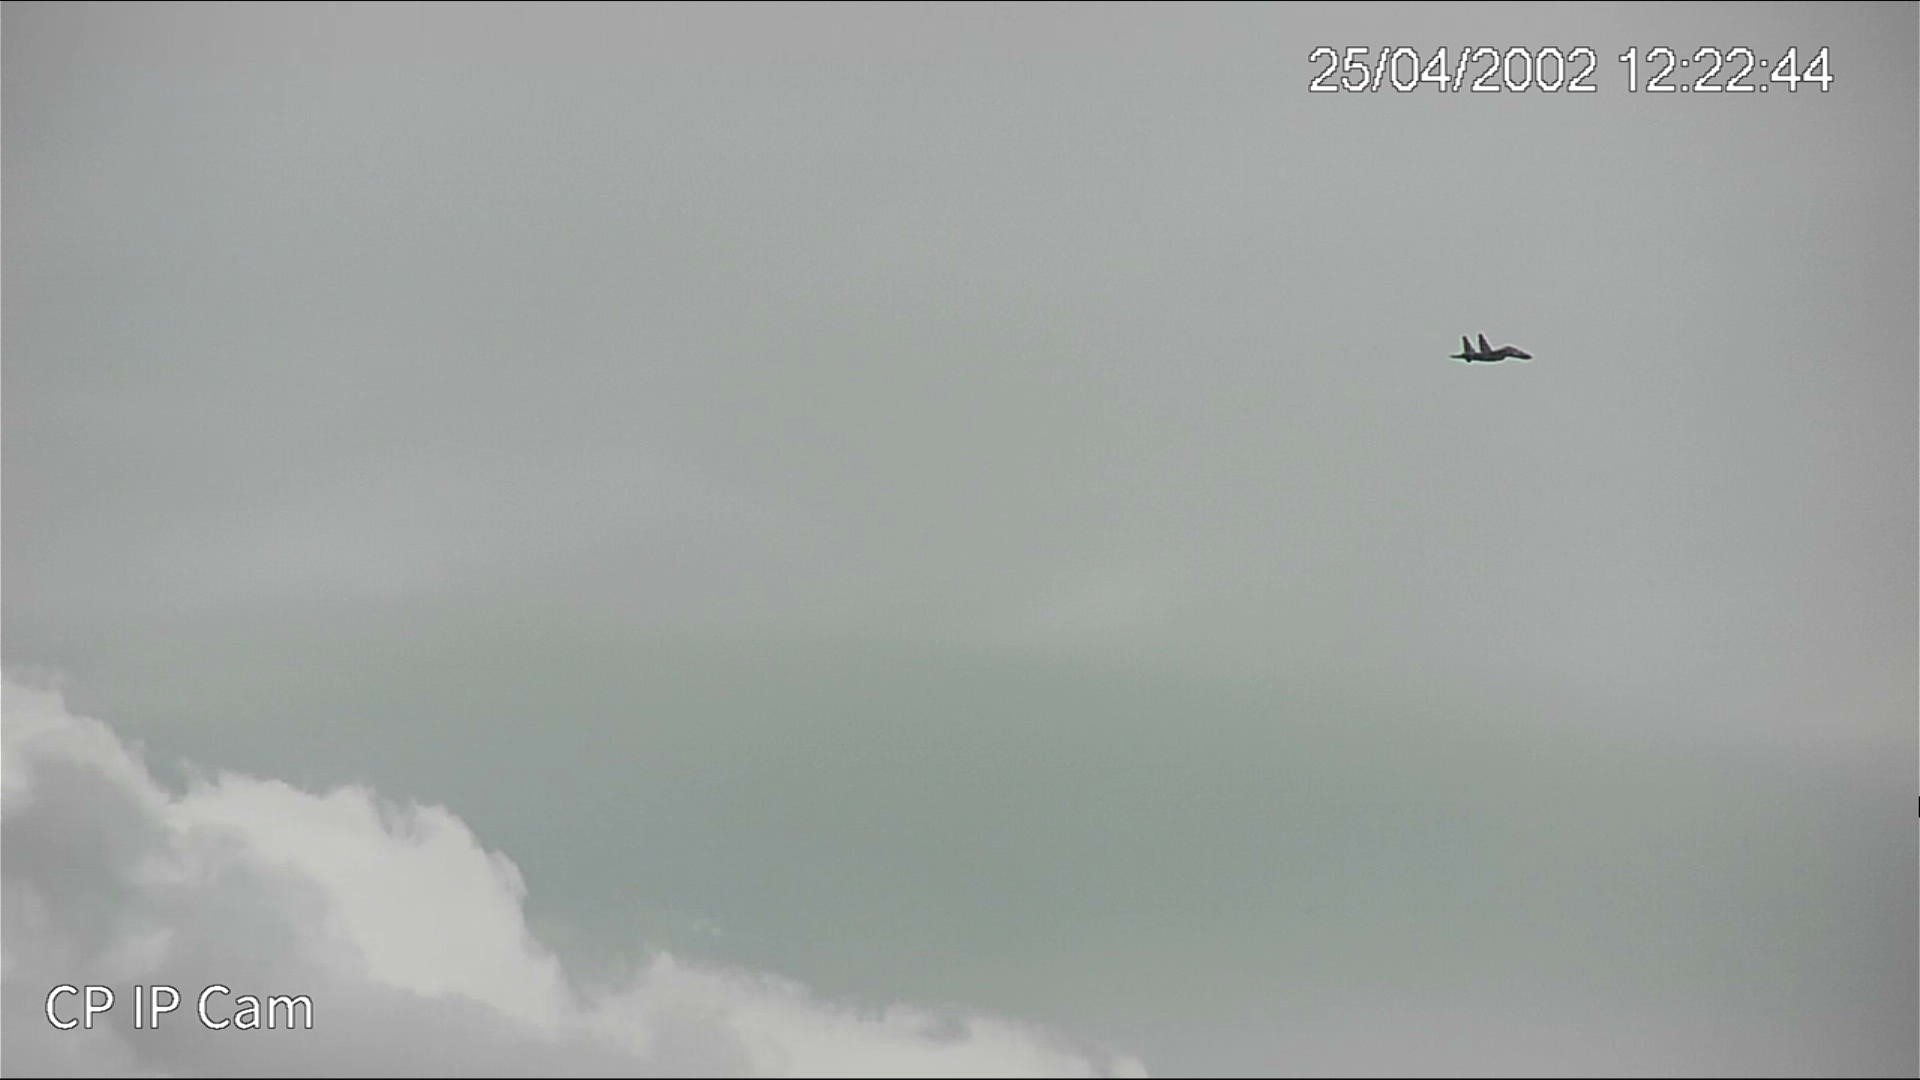SU_30: (1447, 338, 1535, 375)
